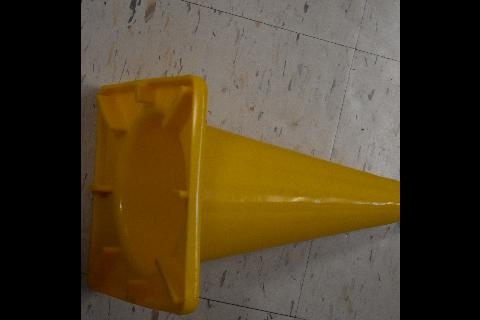cone: (88, 74, 400, 316)
